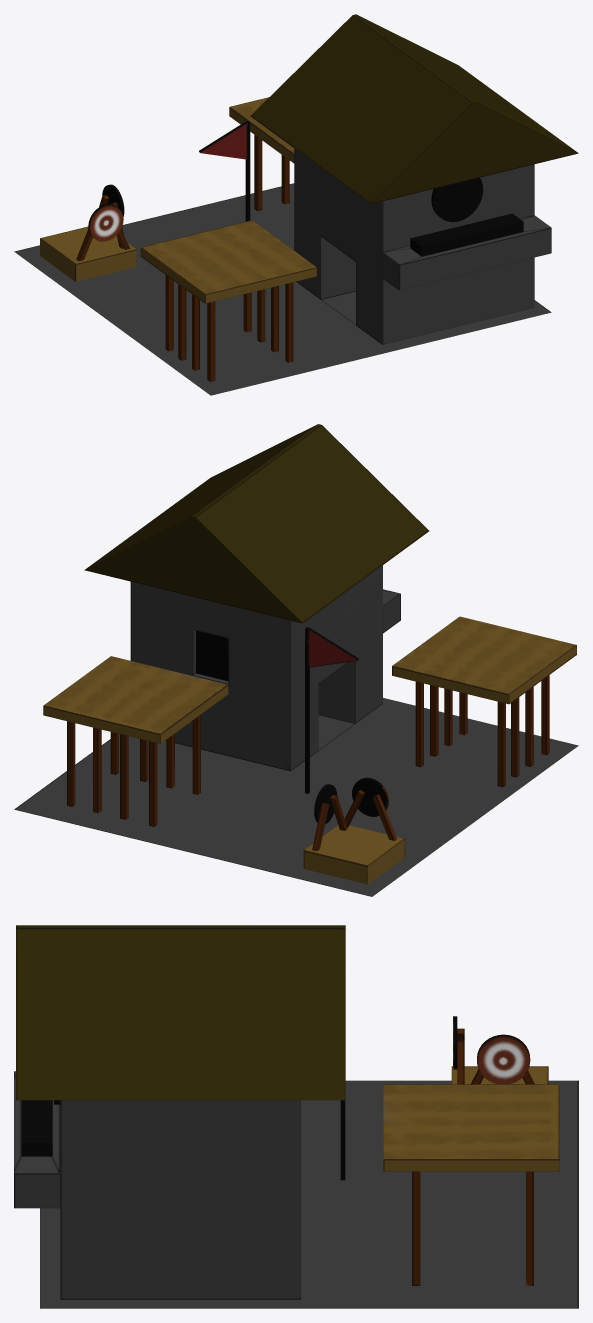
File: archery.obj
The picture shows the model from 3 angles, top to bottom: view 1: azimuth 30°, elevation 25°; view 2: azimuth 150°, elevation 25°; view 3: azimuth 270°, elevation 25°; orthographic projection. The views are drawn at different scales.
Parts seen in each view (by area): view 1: Cube.001_Cube.002; view 2: Cube.001_Cube.002; view 3: Cube.001_Cube.002.
Part boxes in pixels (x1=…): Cube.001_Cube.002: x1=14, y1=14, x2=578, y2=395; Cube.001_Cube.002: x1=14, y1=424, x2=578, y2=896; Cube.001_Cube.002: x1=14, y1=925, x2=578, y2=1308.
Size of the model in its own units: 2.77 by 1.79 by 2.74.
Materials: 1 (1 with a texture image).
